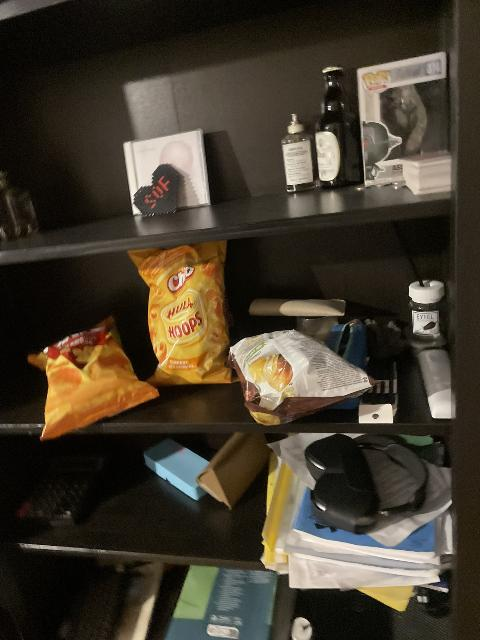Chio Cascaval 125g: (27, 317, 160, 441)
Chio Hula Hoops Cheese 70g: (127, 245, 233, 376)
Lays Beef Grilled Ribs 125g: (226, 328, 366, 426)
